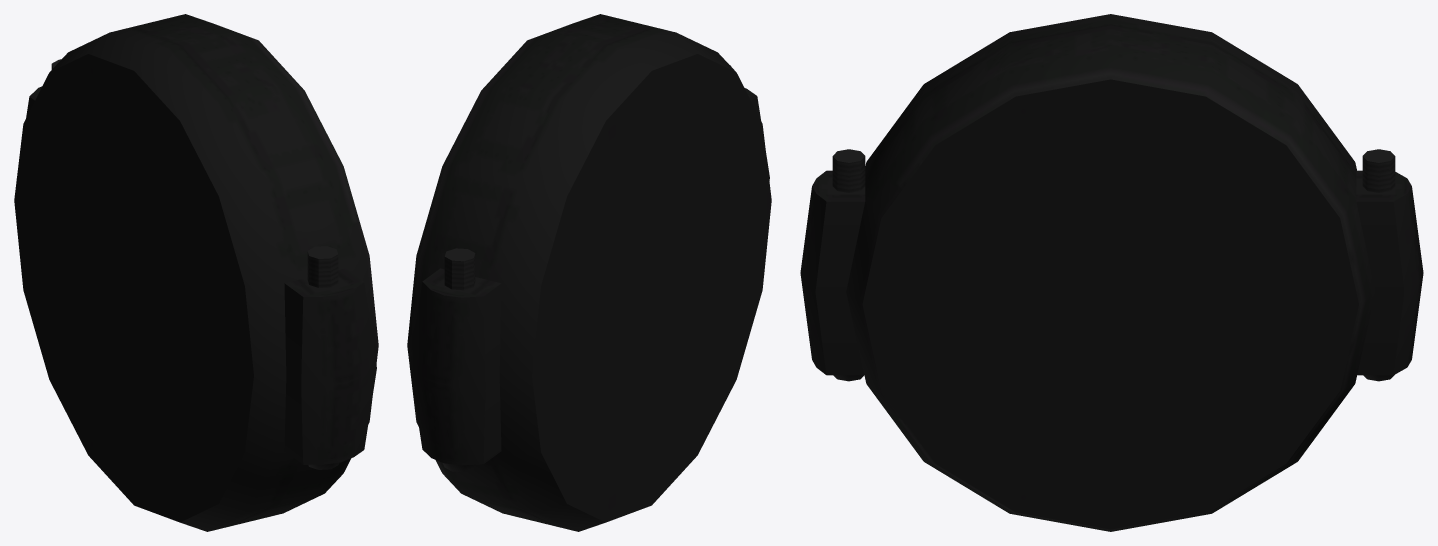
The model's file is com_pipe_4_coupling_metal_clean_lod0.glb.
3 views of the same model, side by side, from view 1: azimuth 30°, elevation 25°; view 2: azimuth 150°, elevation 25°; view 3: azimuth 270°, elevation 25° (orthographic). The views are drawn at different scales.
Visible parts, largest first — view 1: surf0; view 2: surf0; view 3: surf0.
Boxes of the visible parts, x1,y1,x2,y2 form: surf0: [14, 14, 378, 531]; surf0: [407, 14, 771, 531]; surf0: [800, 14, 1423, 531].
Bounding box in the file's own units: 2.54 × 9 × 10.59.
